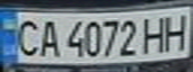0: (81, 17, 103, 59)
2: (118, 16, 142, 57)
4: (63, 17, 84, 59)
7: (100, 17, 121, 57)
A: (33, 17, 63, 59)
C: (9, 16, 42, 57)
H: (139, 12, 172, 54), (160, 10, 193, 52)
